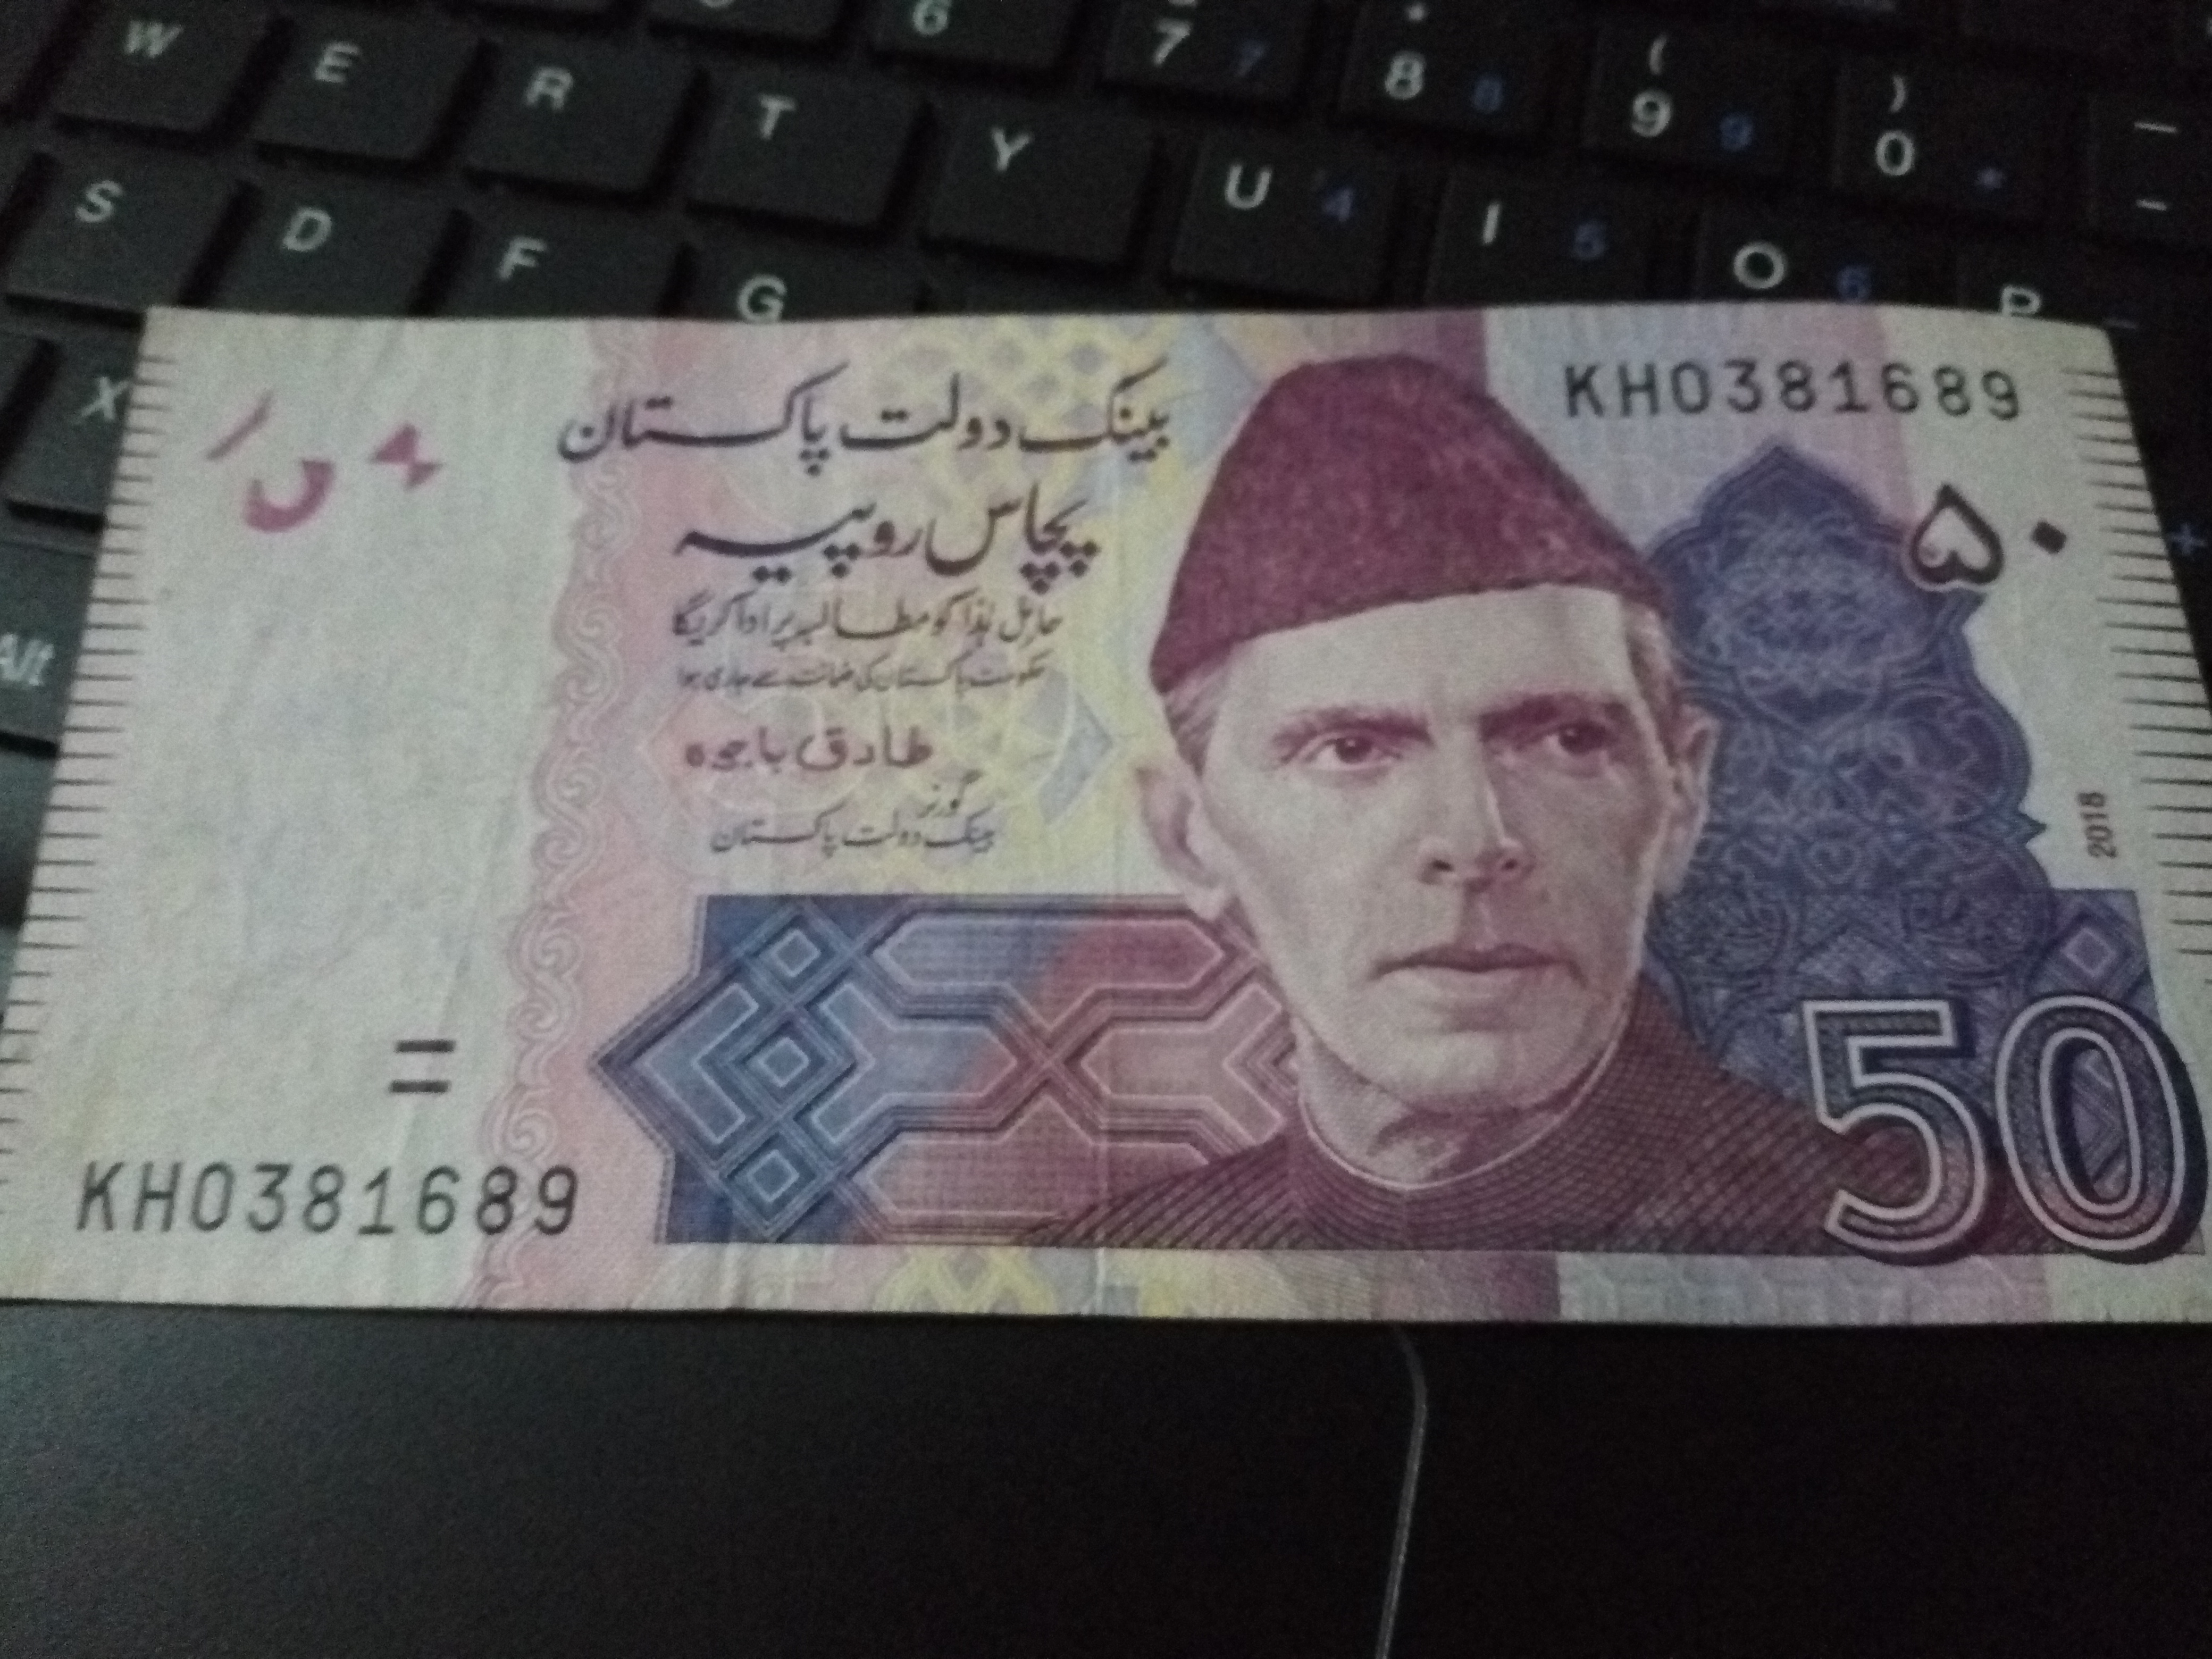50 rupee: (68, 251, 2212, 1394)
